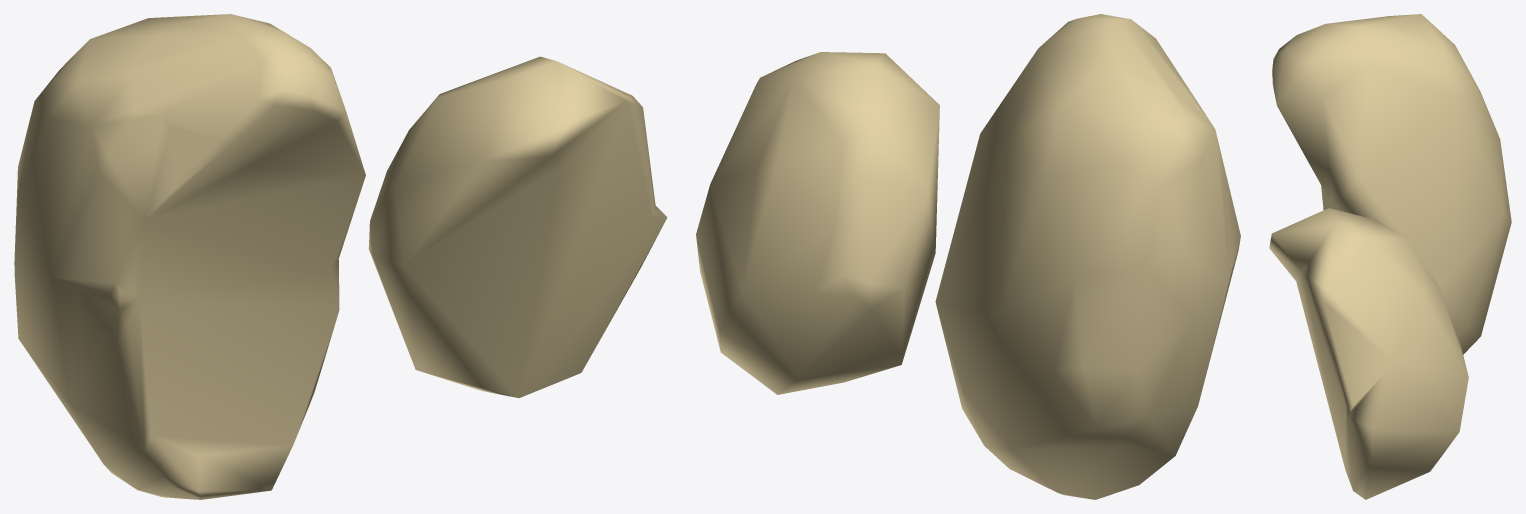
The picture shows the model from 3 angles, left to right: view 1: azimuth 30°, elevation 25°; view 2: azimuth 150°, elevation 25°; view 3: azimuth 270°, elevation 25°; orthographic projection. The views are drawn at different scales.
Visible parts, largest first — view 1: 右侧足籽骨; view 2: 右侧足籽骨; view 3: 右侧足籽骨.
Boxes of the visible parts, left/top/right/bottom form: 右侧足籽骨: left=14, top=14, right=667, bottom=499; 右侧足籽骨: left=696, top=14, right=1240, bottom=499; 右侧足籽骨: left=1269, top=14, right=1511, bottom=499.
Bounding box in the file's own units: 0.0256 × 0.0201 × 0.0118.
